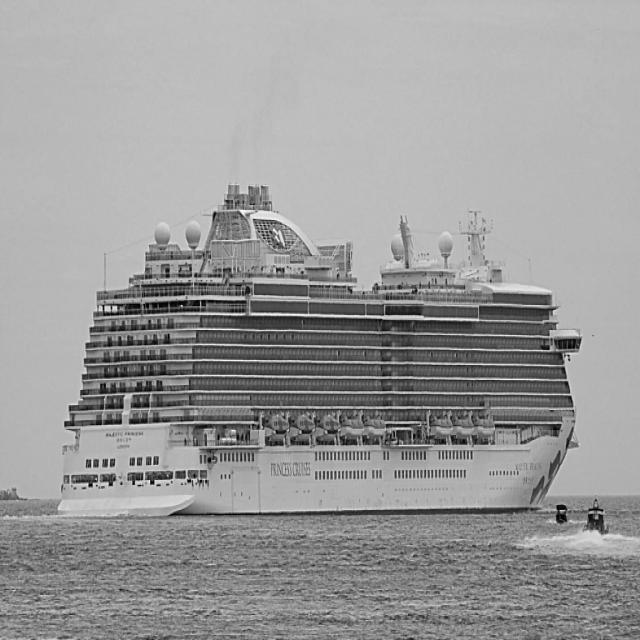cruises: (53, 185, 587, 525)
